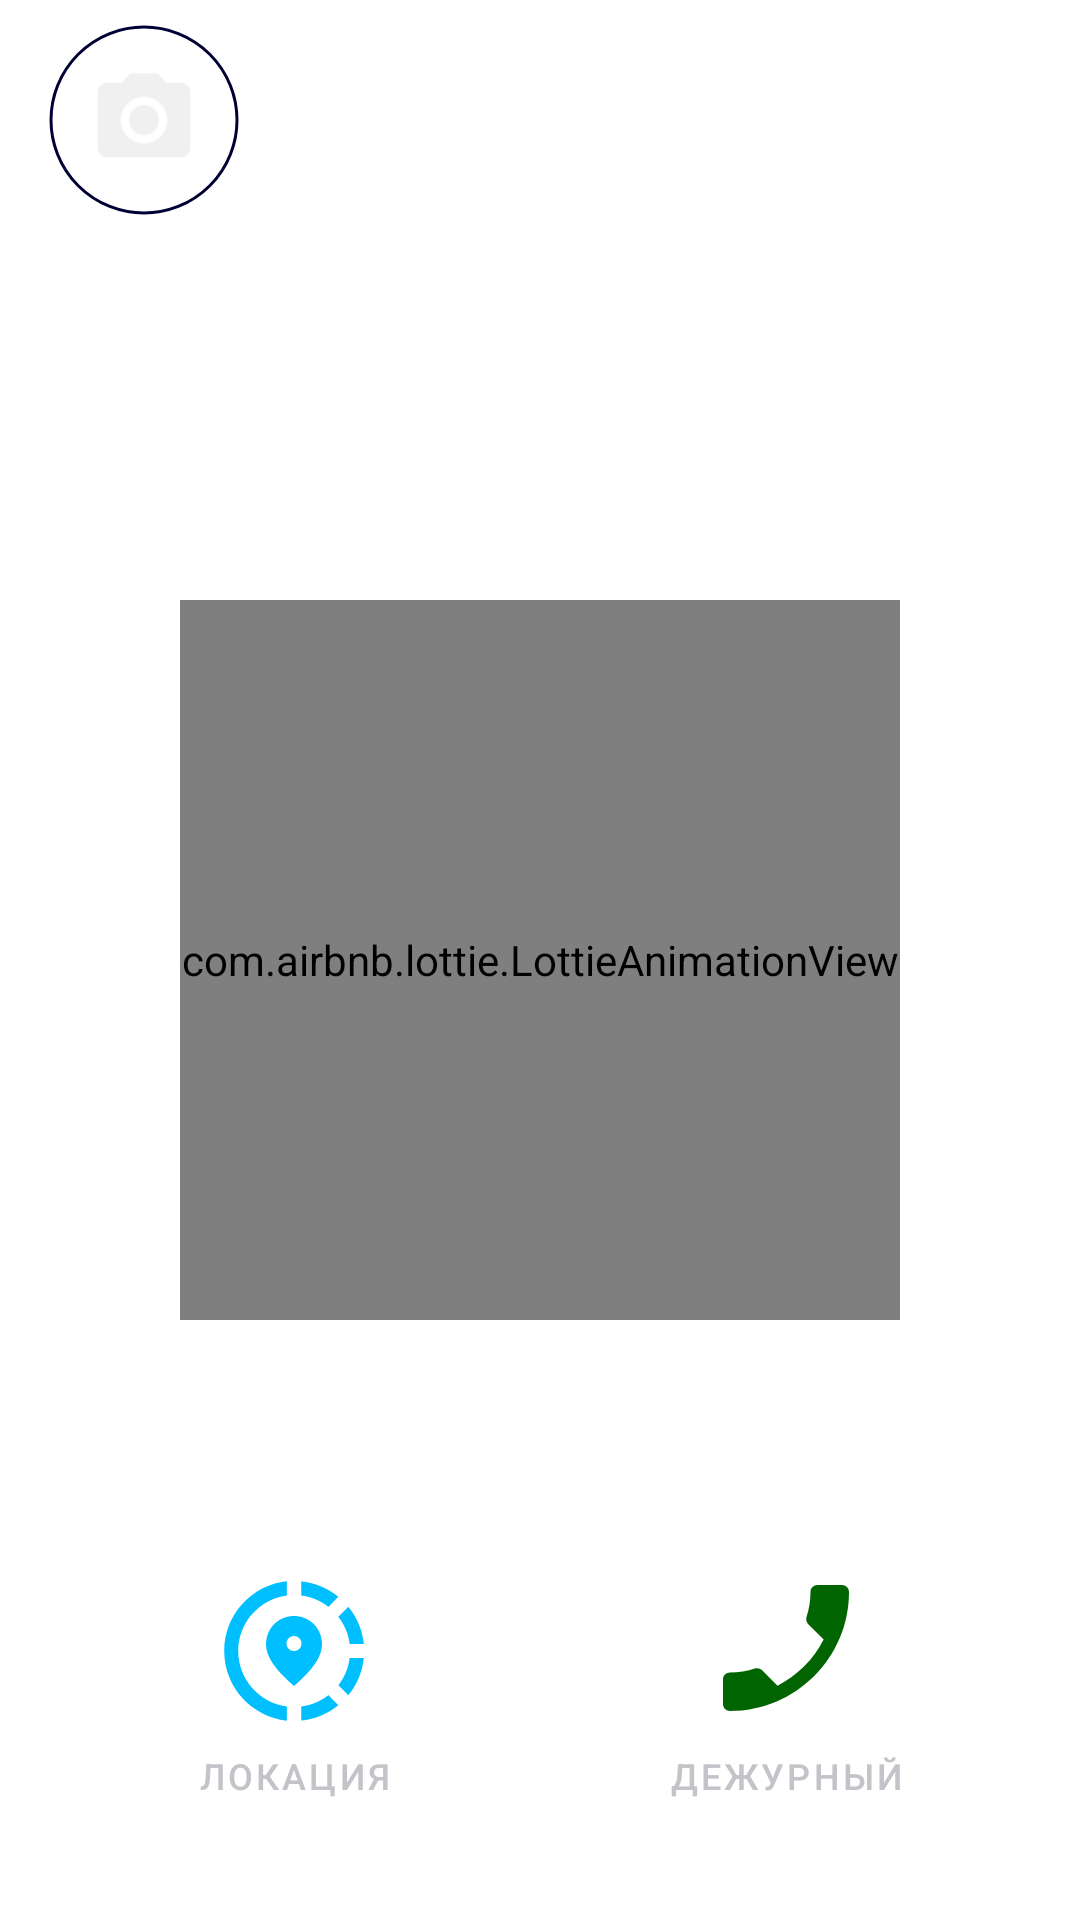

Icon click points for this 1080 x 1920 phone screenshot, format (x=x, y=y):
inset holder camera: (x=144, y=120)
